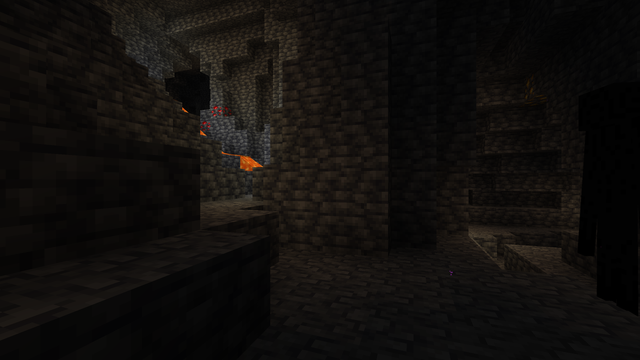endermens: (573, 73, 637, 314)
